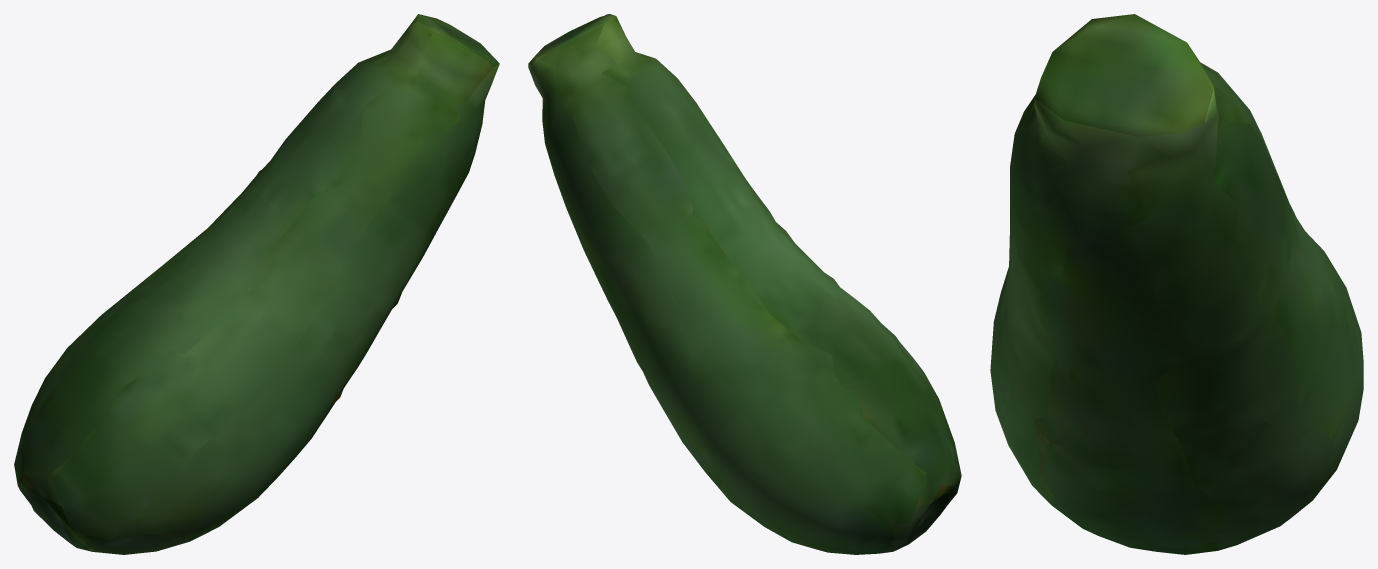
Rendered from abobrinha.glb.
3 renders of one model, left to right at view 1: azimuth 30°, elevation 25°; view 2: azimuth 150°, elevation 25°; view 3: azimuth 270°, elevation 25°, orthographic. The views are drawn at different scales.
Parts seen in each view (by area): view 1: abobrinha; view 2: abobrinha; view 3: abobrinha.
Boxes of the visible parts, x1,y1,x2,y2 form: abobrinha: (14,14,499,554); abobrinha: (528,14,961,554); abobrinha: (990,14,1363,554).
Size of the model in its own units: 0.1509 by 0.1528 by 0.0723.
Materials: 1 (1 with a texture image).
